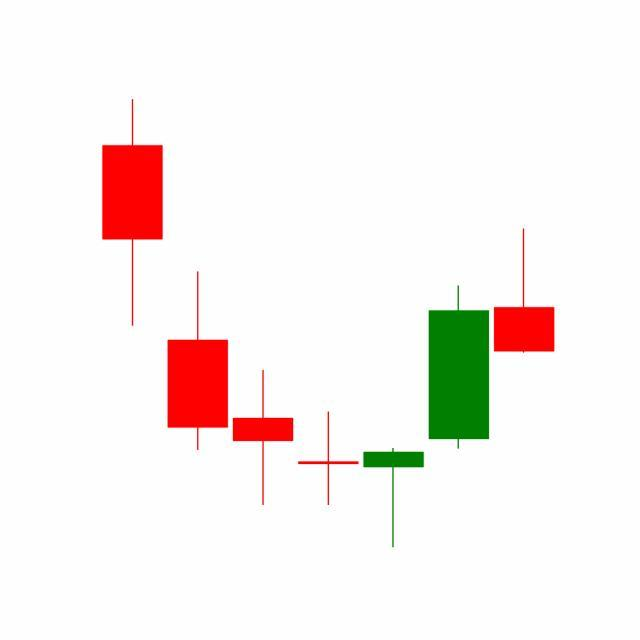Three Outside Up-Down: (295, 282, 492, 549)
